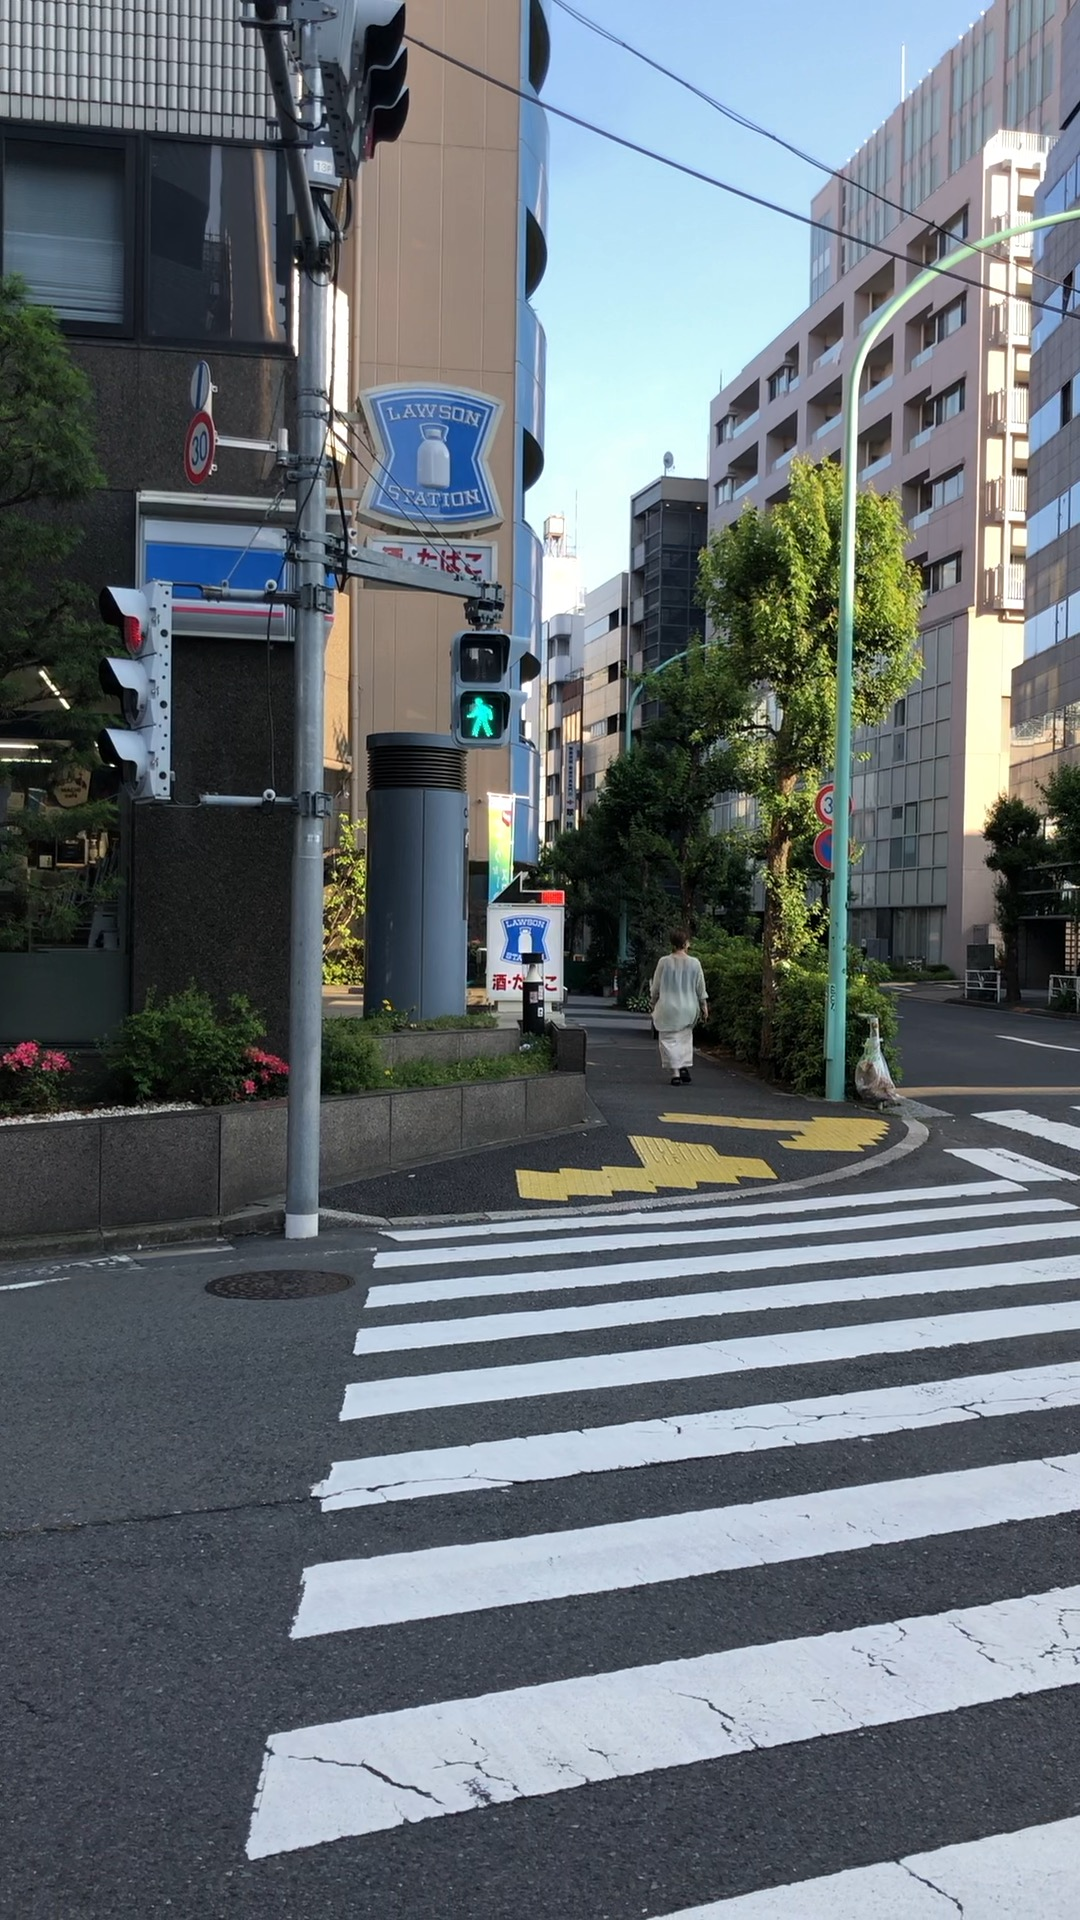green: (450, 630, 512, 746)
